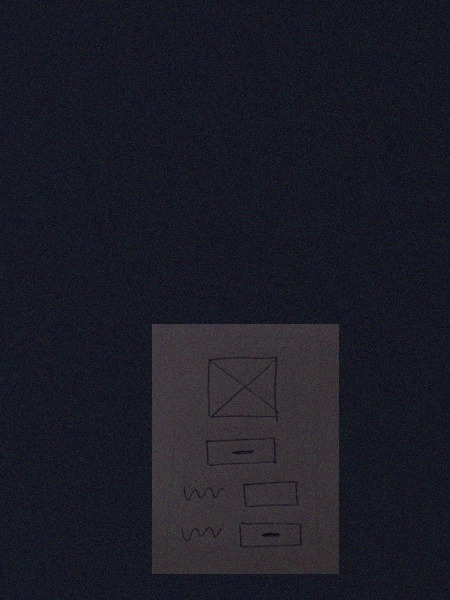button: (202, 435, 278, 471), (237, 520, 306, 551)
image: (205, 354, 281, 424)
text: (178, 522, 225, 546), (179, 483, 225, 506)
text_input: (241, 479, 304, 513)
